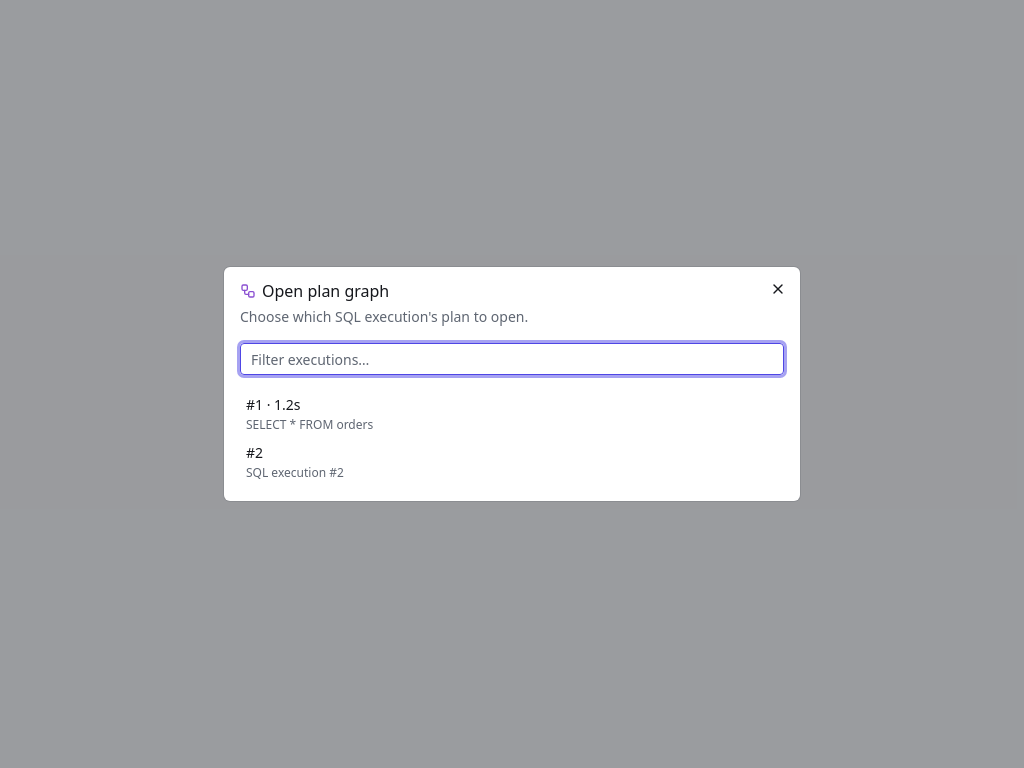
Scenario: a filter matching nothing shows a "no matching executions" message and no rows
The width and height of the screenshot is (1024, 768).
Type "zzz-nope" into the field with placeholder "Filter executions…".
click(512, 359); type("zzz-nope")  # box [240,343,784,375]
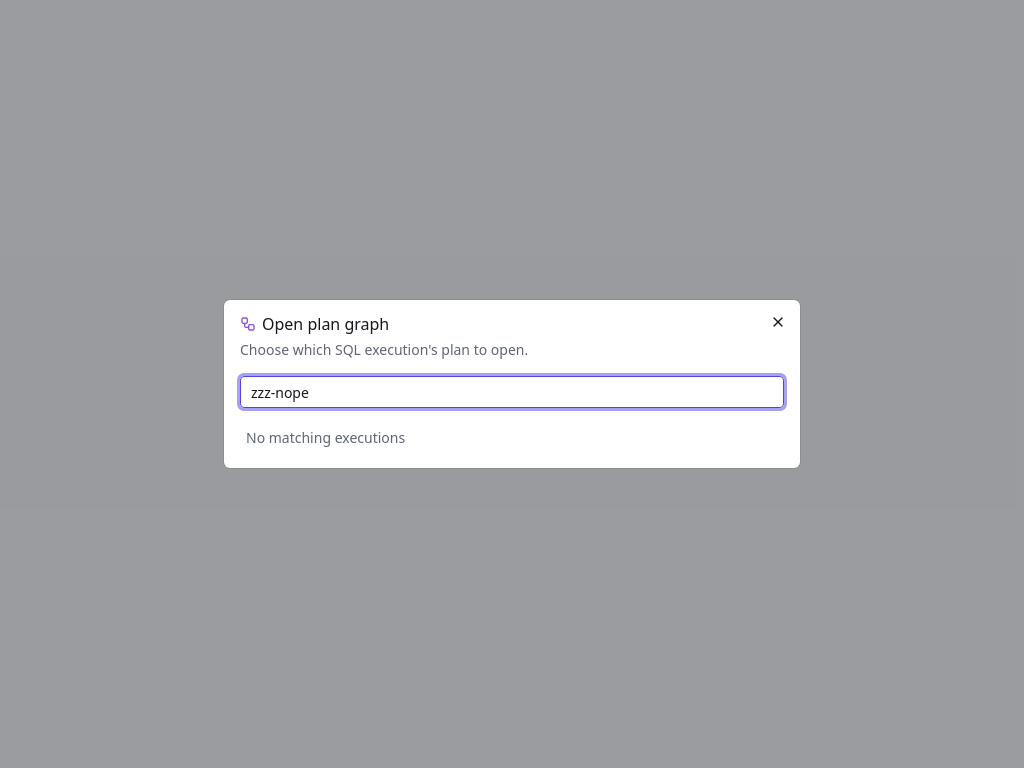
expect the text "No matching executions" is shown: met, box [246,428,405,447]
